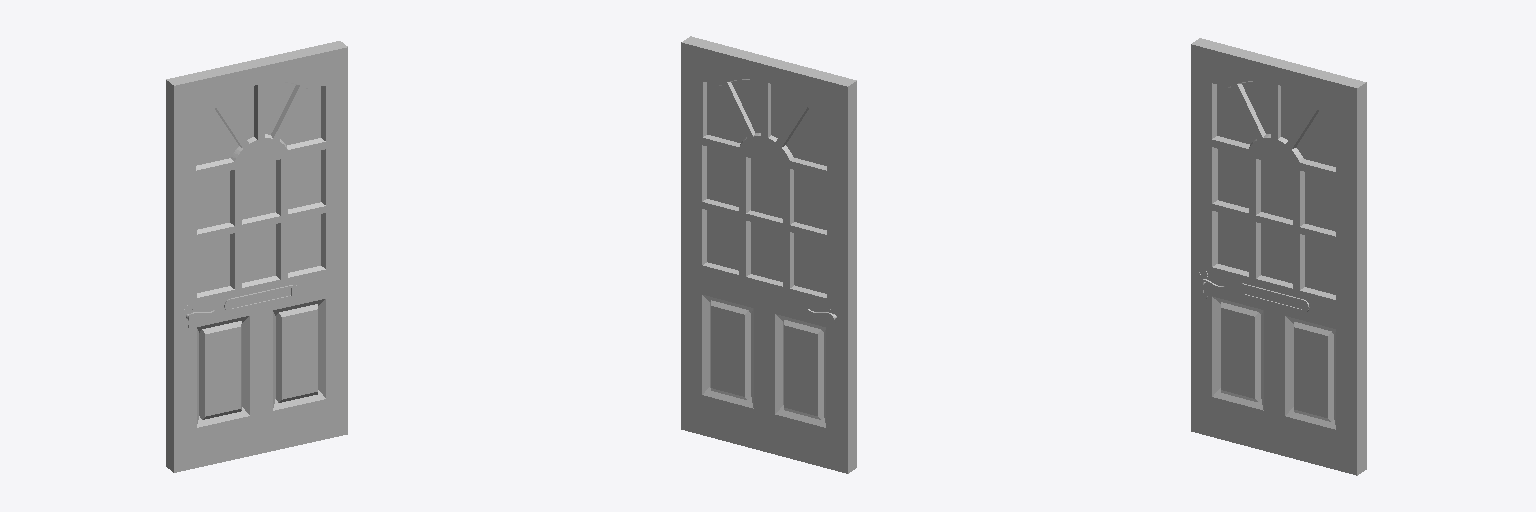
Rendered from door_000018.obj.
The picture shows the model from 3 angles: view 1: azimuth 30°, elevation 25°; view 2: azimuth 150°, elevation 25°; view 3: azimuth 330°, elevation 25°; orthographic projection.
Visible parts, largest first — view 1: Door.003; view 2: Door.003; view 3: Door.003.
Part boxes in pixels (bbox=[...]): Door.003: bbox=[166, 41, 347, 472]; Door.003: bbox=[681, 36, 856, 473]; Door.003: bbox=[1191, 38, 1366, 475].
Bounding box in the file's own units: 0.7414 × 1.6 × 0.1189.